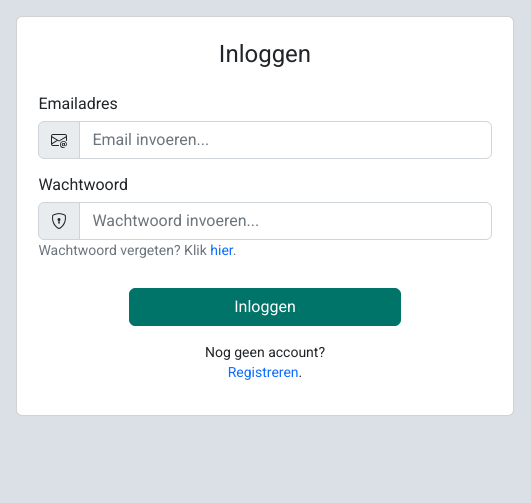
Test: Testing the login page functionalities. › writes a fake email and password that does not exist. Should return an error.
Type "CompletleyFake@iswear.com" into the field with id "emailInput". click: (285, 140)
box: [79, 121, 491, 159]
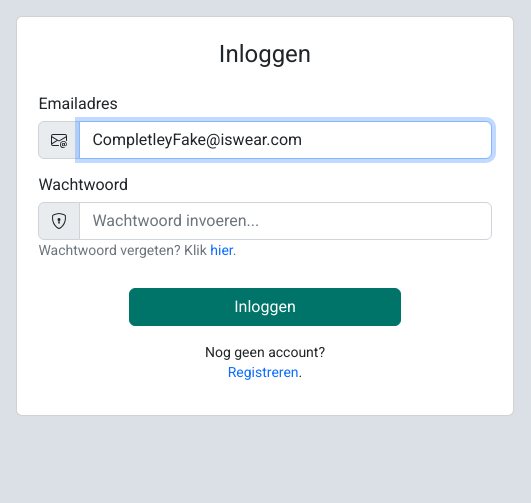
Type "IfYouReadThisYouAreAwesome!" into the password field labelled "Wachtwoord". click: (285, 221)
box: [79, 202, 491, 240]
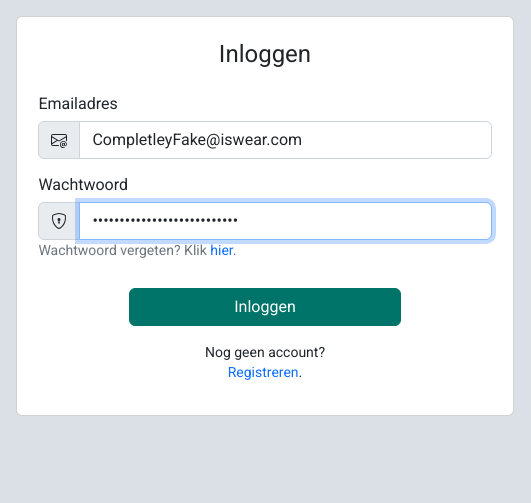
Click the button "Inloggen". click: (265, 307)
box: [129, 288, 401, 326]
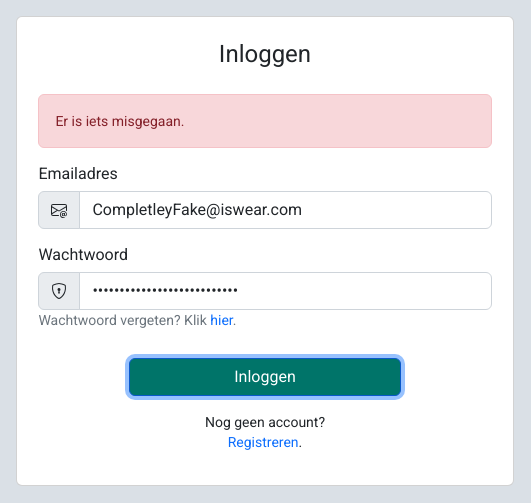
Result: the text "Er is iets misgegaan." is shown once at [55, 113, 184, 129]
Result: the text "Er is iets misgegaan." is shown at [38, 94, 492, 148]
